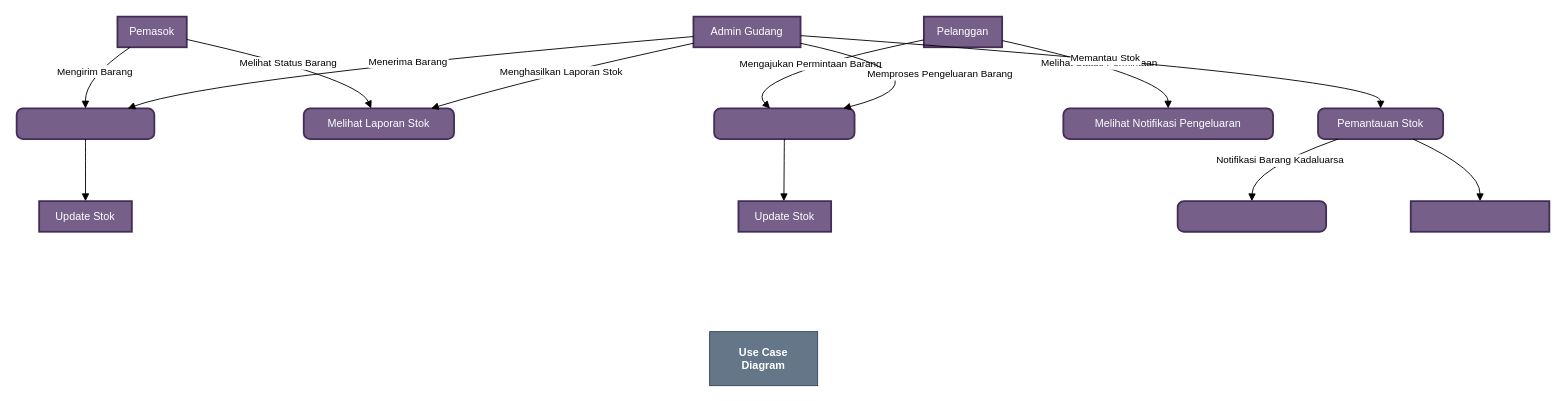
Some shapes in this 1565 by 401 pixel diagram are drawn without their labels. The shapes that lost their labels are listed below. From the top down, each one's box as (x1, y1, x2, y2) in pixels, then its label:
(15, 107, 155, 140): Penerimaan Barang
(713, 107, 855, 140): Pengeluaran Barang
(1176, 200, 1327, 232): Notifikasi Kadaluarsa
(1409, 200, 1550, 232): Generate Notifikasi
